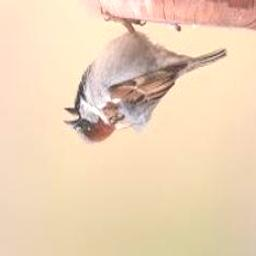Sparrow: (63, 10, 226, 146)
